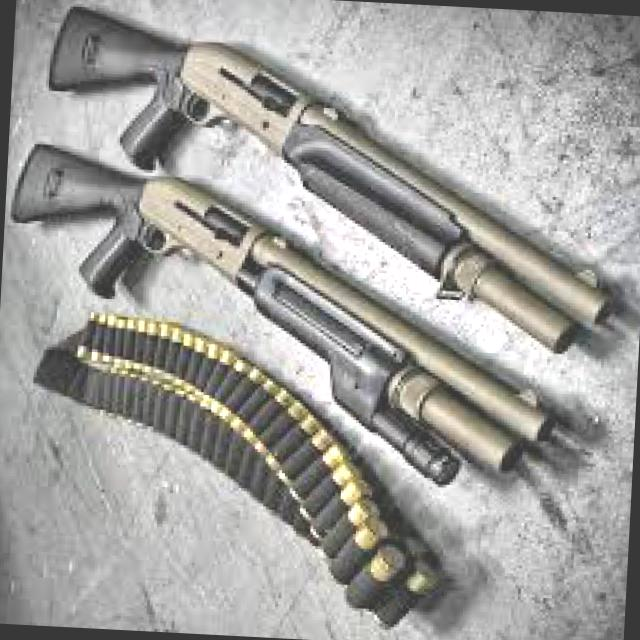long weapon: (33, 0, 637, 366), (11, 125, 582, 507)
